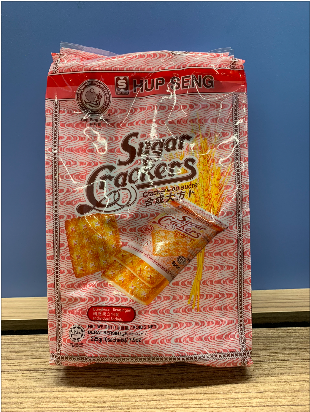Crackers_200-299g: (56, 75, 246, 353)
